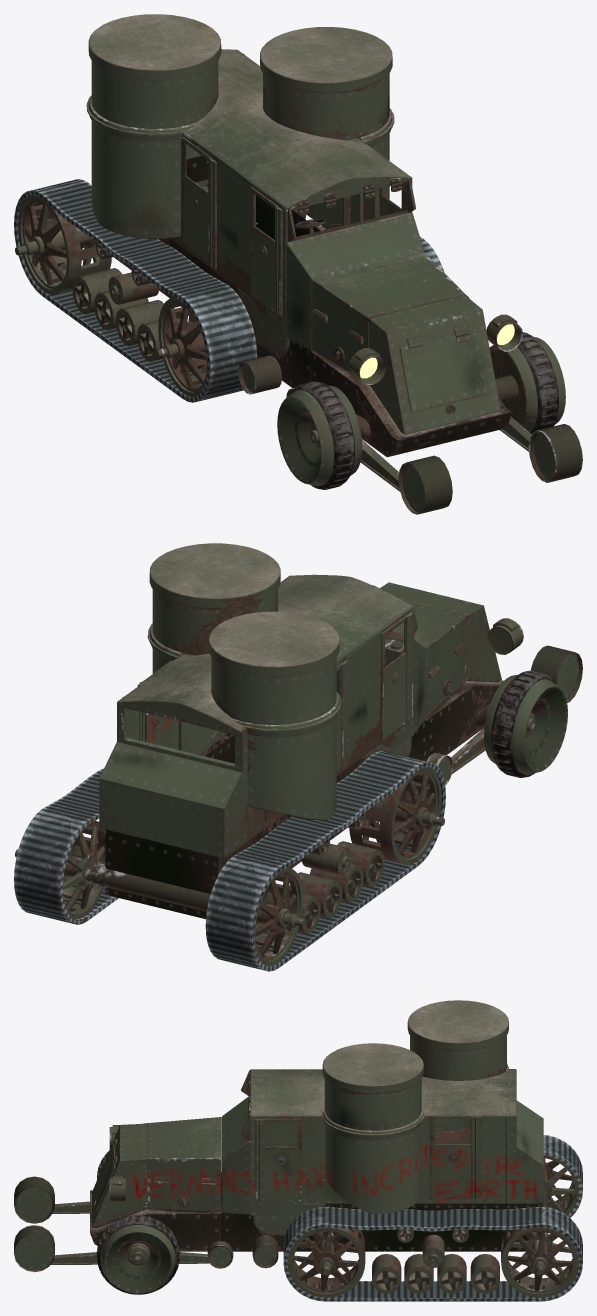
The model's file is crappy_half_track_prop.glb.
3 views of the same model, one above another, from view 1: azimuth 30°, elevation 25°; view 2: azimuth 150°, elevation 25°; view 3: azimuth 270°, elevation 25° (orthographic). The views are drawn at different scales.
Parts seen in each view (by area): view 1: Cube; view 2: Cube; view 3: Cube.
Boxes of the visible parts, x1,y1,x2,y2 form: Cube: (14, 14, 582, 514); Cube: (14, 543, 582, 971); Cube: (14, 1000, 582, 1301).
Bounding box in the file's own units: 3.19 × 2.92 × 7.08.
Materials: 2 (1 with a texture image).
